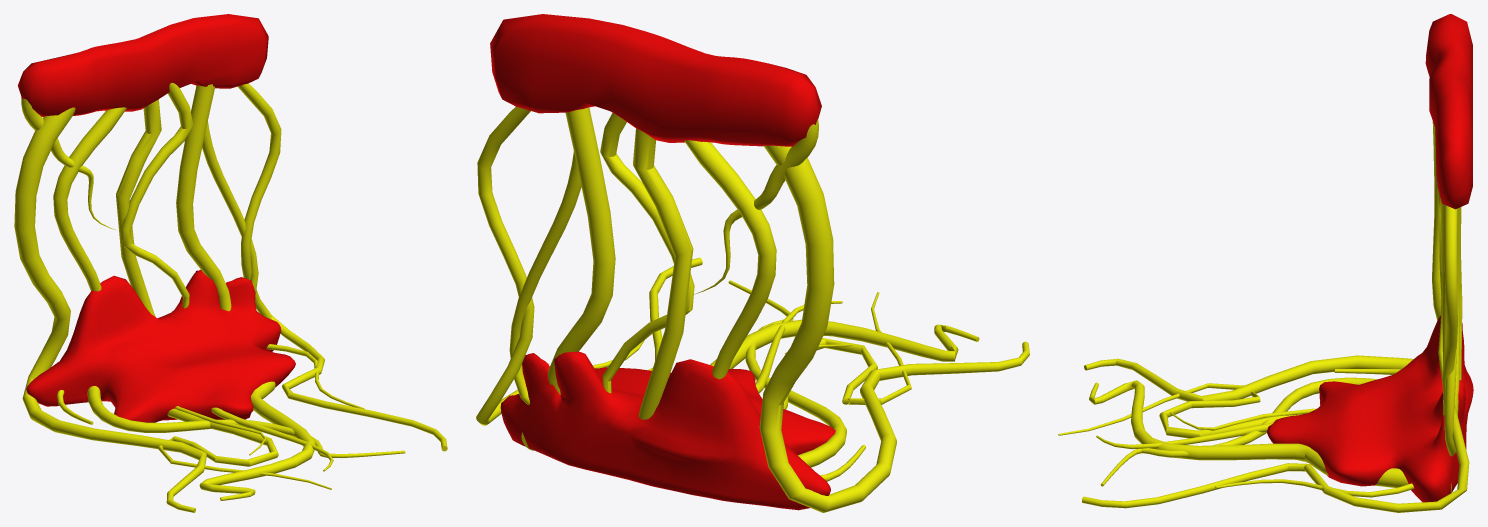
File: matiere_noir.fbx
3 renders of one model, left to right at view 1: azimuth 30°, elevation 25°; view 2: azimuth 150°, elevation 25°; view 3: azimuth 270°, elevation 25°, orthographic. The views are drawn at different scales.
Parts seen in each view (by area): view 1: liane1, coulee_02, coulee_01; view 2: liane1, coulee_02, coulee_01; view 3: liane1, coulee_02, coulee_01.
Part boxes in pixels (left/top/right/bottom): liane1: left=14, top=83, right=447, bottom=512; coulee_02: left=26, top=269, right=295, bottom=422; coulee_01: left=17, top=14, right=268, bottom=116; liane1: left=476, top=106, right=1029, bottom=512; coulee_02: left=500, top=351, right=835, bottom=510; coulee_01: left=490, top=14, right=821, bottom=146; liane1: left=1058, top=121, right=1469, bottom=512; coulee_02: left=1266, top=315, right=1473, bottom=502; coulee_01: left=1425, top=14, right=1472, bottom=209.
Bounding box in the file's own units: 2.72 × 3.16 × 3.14.
